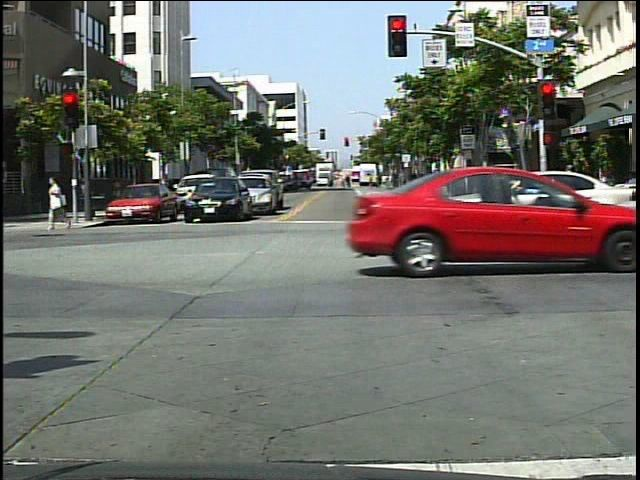person: (45, 170, 74, 234), (558, 162, 580, 213)
